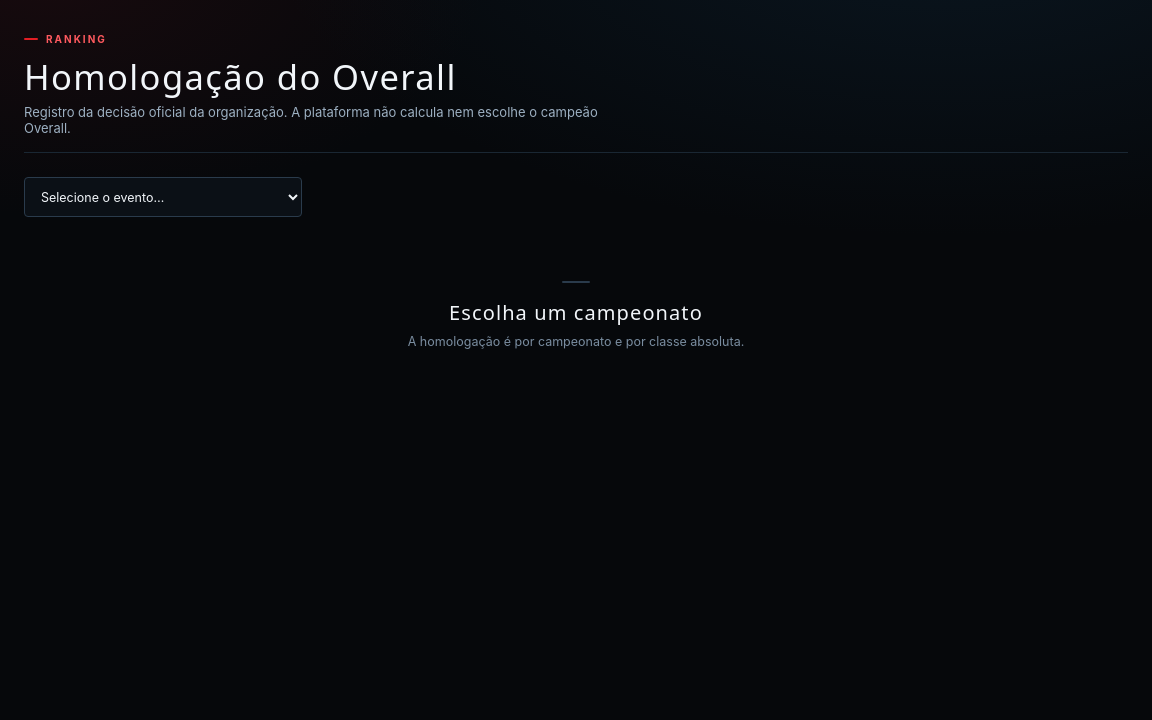
it: o campeonato e o recorte › evento sem classe absoluta diz isso, e não oferece homologação
Select "Etapa Cuiabá — Resultados publicados" in the dropdown named "selecionar evento": (163, 197) 24,177 -> 302,217
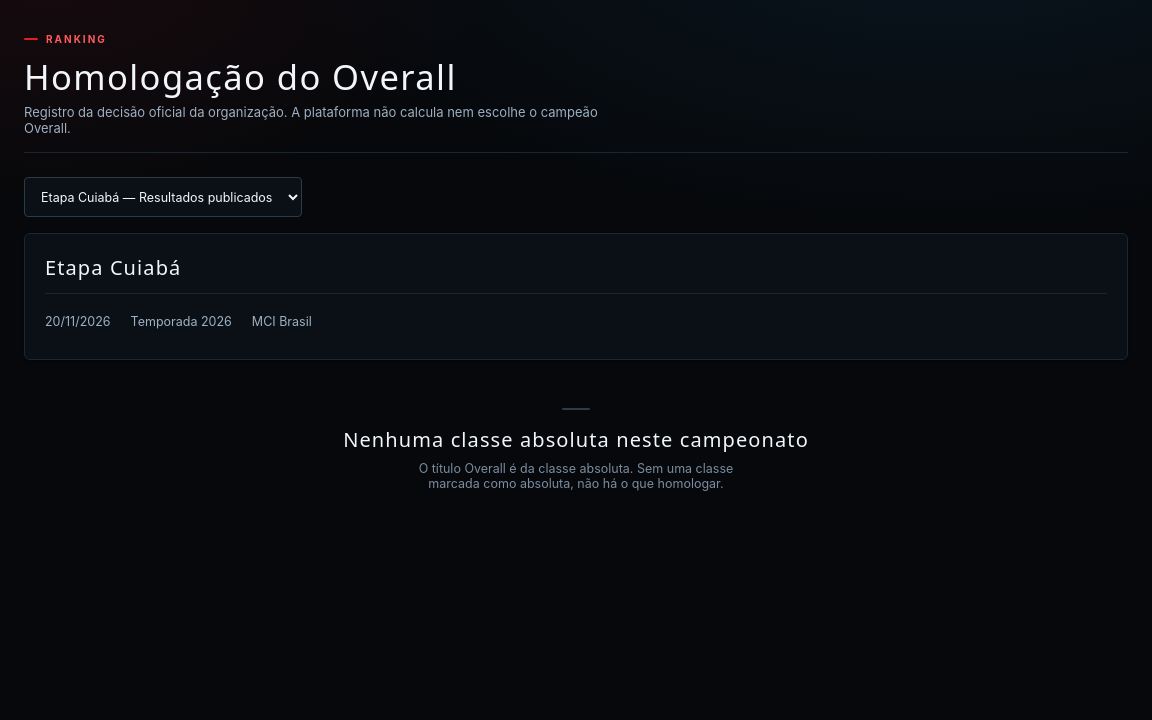
Result: the heading "Nenhuma classe absoluta neste campeonato" is shown at 343,426 -> 809,453
